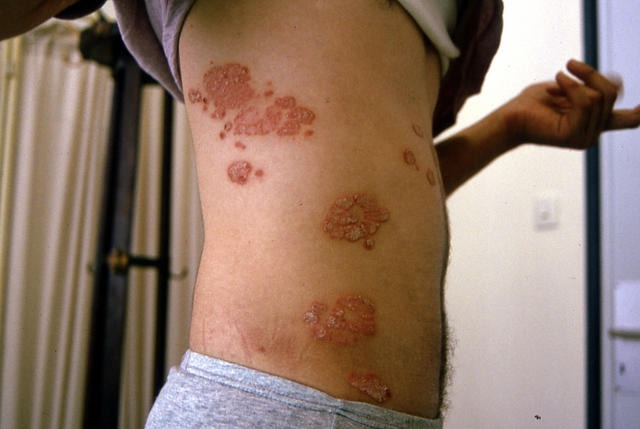Psoriasis: (296, 287, 389, 360), (321, 190, 399, 257), (192, 54, 262, 119), (234, 94, 327, 137), (331, 366, 404, 405), (273, 103, 325, 143), (221, 159, 254, 188), (418, 160, 441, 191), (397, 144, 419, 175)
